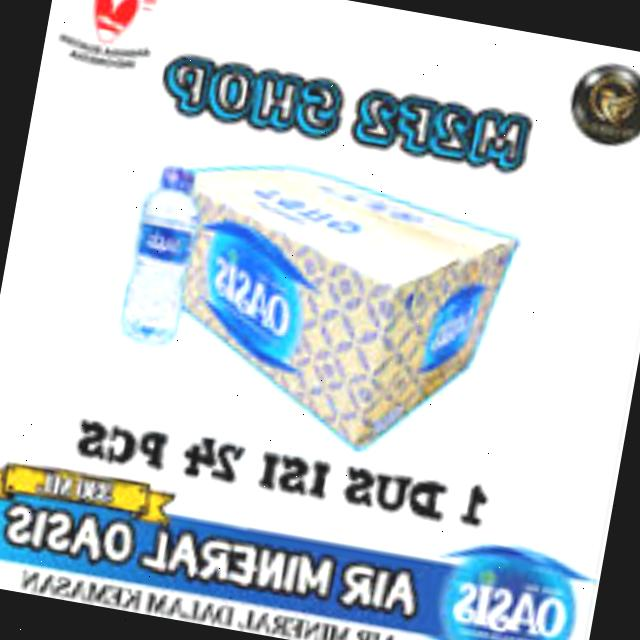trash: (107, 157, 210, 357)
